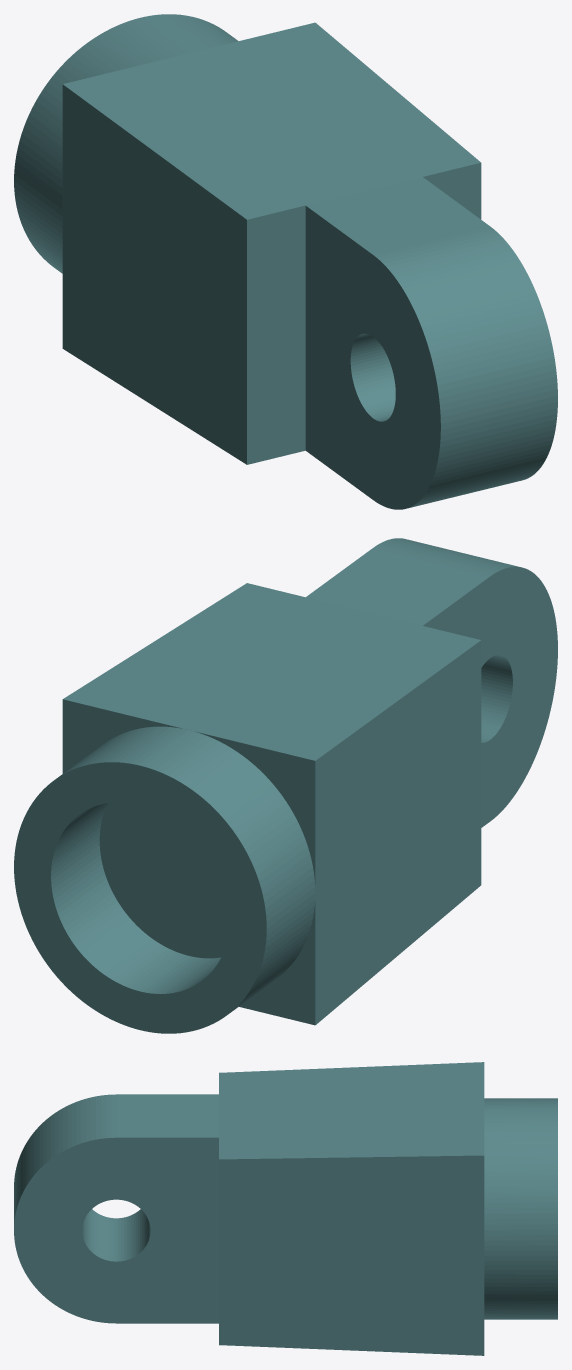
The picture shows the model from 3 angles, top to bottom: view 1: azimuth 30°, elevation 25°; view 2: azimuth 150°, elevation 25°; view 3: azimuth 270°, elevation 25°; orthographic projection. The views are drawn at different scales.
Parts seen in each view (by area): view 1: node; view 2: node; view 3: node.
Part boxes in pixels (x1,y1,x2,y2): node: (14, 14, 557, 509); node: (14, 538, 557, 1033); node: (14, 1062, 557, 1355).
Size of the model in its own units: 0.0833 by 0.0833 by 0.205.
